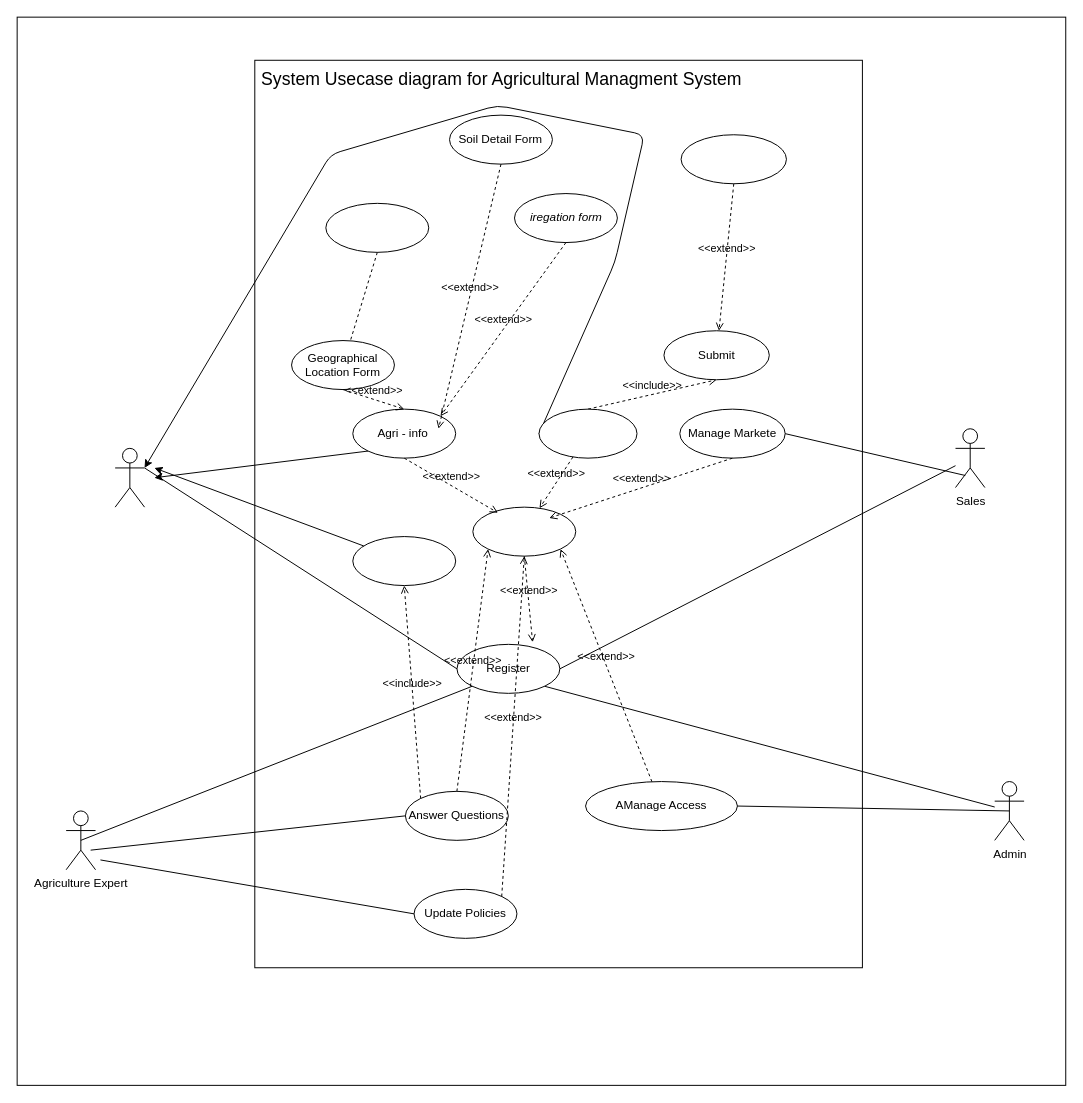
Some shapes in this 1083 by 1103 pixel diagram are drawn without their labels. The shapes that lost their labels are listed below. From the top down, each one's centre as x and y in pixels, then its label:
At point 733,159: "Display Result".
At point 377,227: "Pest Form".
At point 587,433: "Prediction Form".
At point 129,477: "Farmer".
At point 524,531: "Login".
At point 404,561: "Asq Questions".
